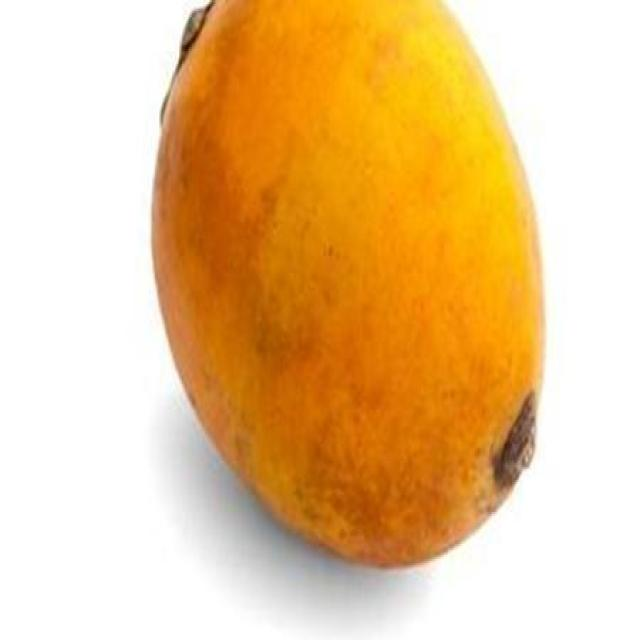good: (151, 0, 549, 570)
